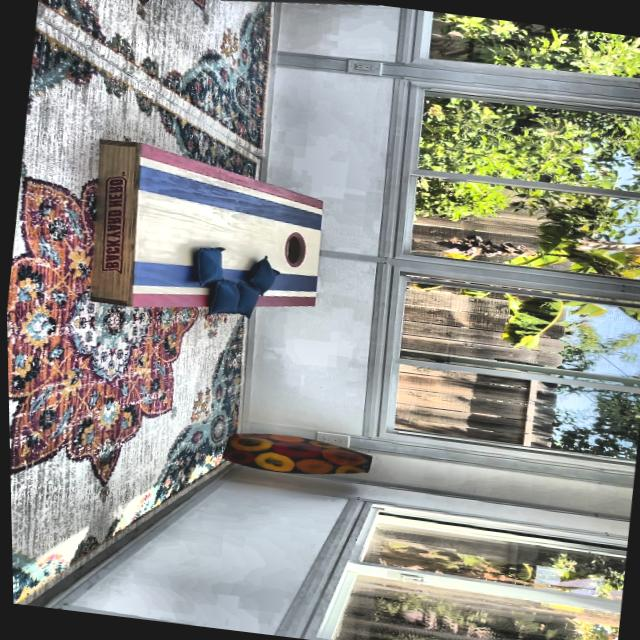blue-bean-bag: (188, 243, 226, 291), (241, 254, 280, 298), (204, 278, 239, 318), (229, 280, 260, 320)
board: (123, 166, 327, 314)
hole: (280, 230, 308, 270)
